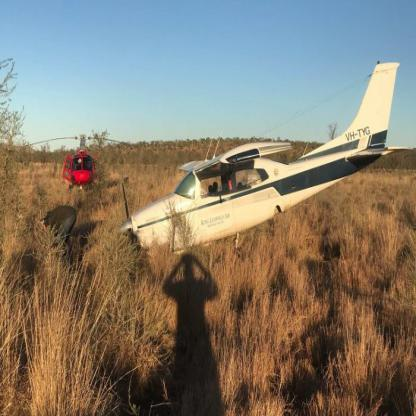CIV_Plane: (119, 58, 400, 266)
